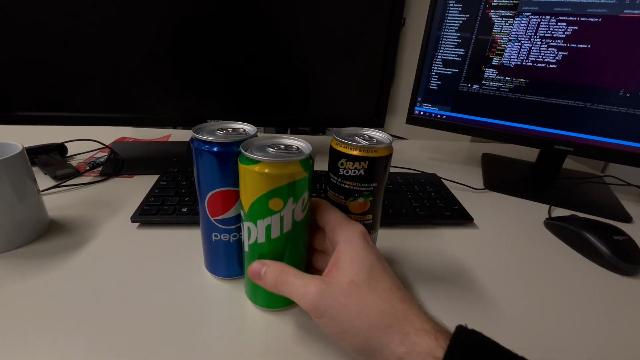OranSoda: (324, 124, 394, 254)
Pepsi: (189, 121, 259, 280)
Sprite: (237, 132, 316, 316)
